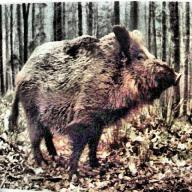boar: (3, 10, 176, 185)
